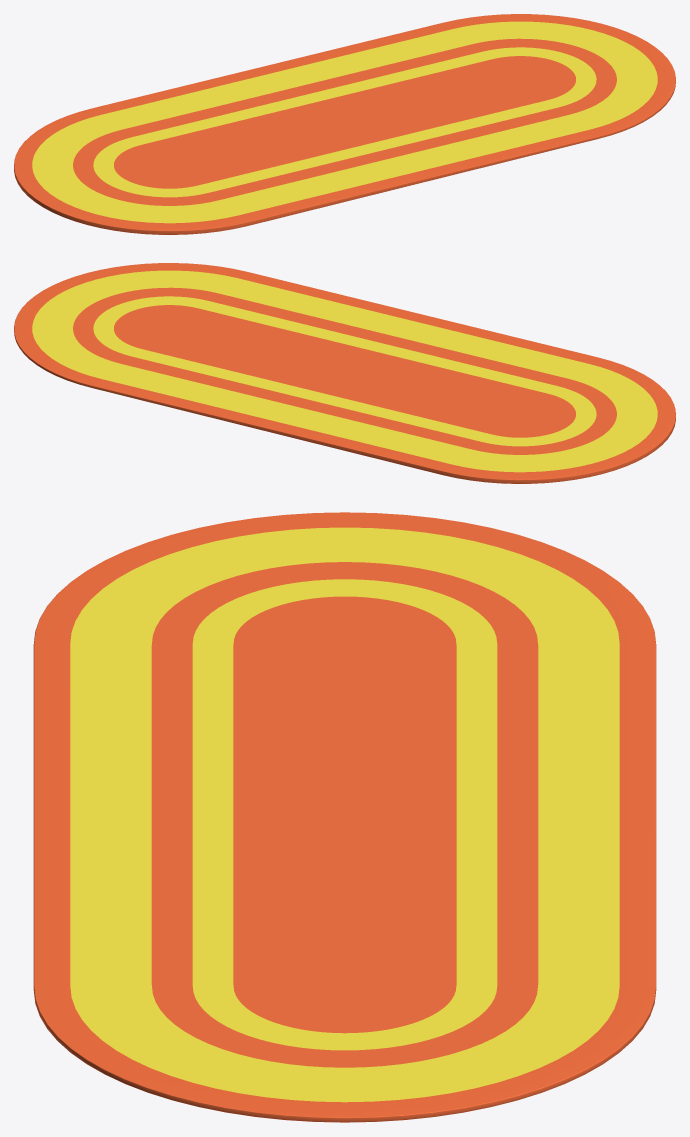
File: City_11_Carpet_1.glb
3 views of the same model, one above another, from view 1: azimuth 30°, elevation 25°; view 2: azimuth 150°, elevation 25°; view 3: azimuth 270°, elevation 25° (orthographic). The views are drawn at different scales.
Parts seen in each view (by area): view 1: City_11_Carpet_1; view 2: City_11_Carpet_1; view 3: City_11_Carpet_1.
Part boxes in pixels (bbox=[...]): City_11_Carpet_1: bbox=[14, 14, 675, 234]; City_11_Carpet_1: bbox=[14, 263, 675, 483]; City_11_Carpet_1: bbox=[33, 512, 656, 1122].
Bounding box in the file's own units: 1.91 × 0.0123 × 0.8276.
Materials: 1 (1 with a texture image).
